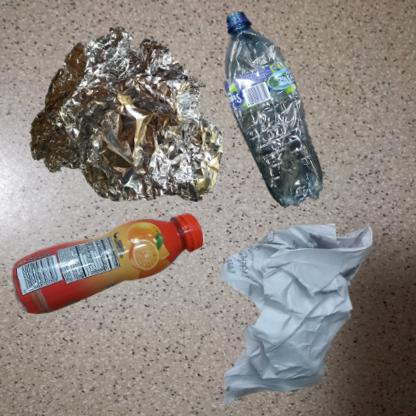aluminio: (10, 10, 239, 235)
botella: (213, 10, 338, 216), (10, 213, 206, 315)
papel: (213, 213, 374, 412)
